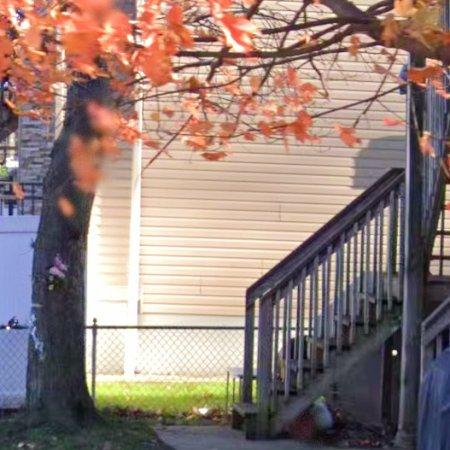stairs: (244, 169, 405, 440)
